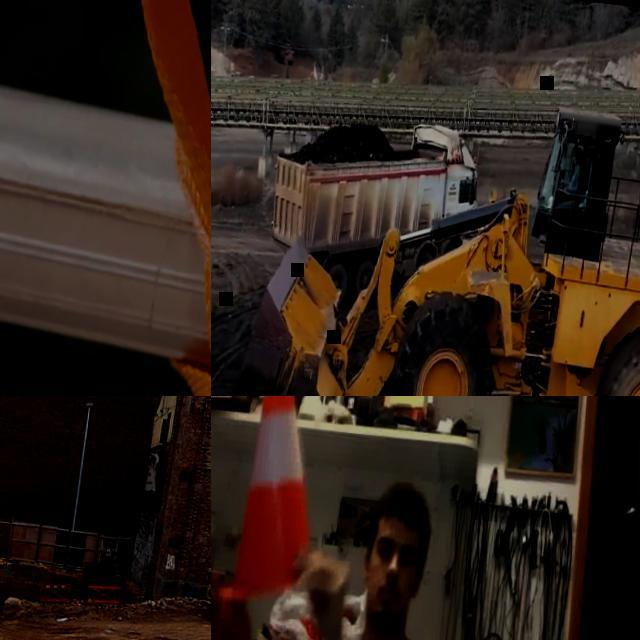machinery: (211, 67, 640, 396), (260, 96, 484, 312)
no_helmet: (374, 480, 434, 534), (574, 146, 582, 154)
no_mask: (366, 578, 412, 627), (572, 156, 578, 164)
no_vest: (569, 168, 580, 189)
person: (211, 460, 470, 640), (558, 144, 584, 198)
safety_cone: (212, 396, 340, 627)
